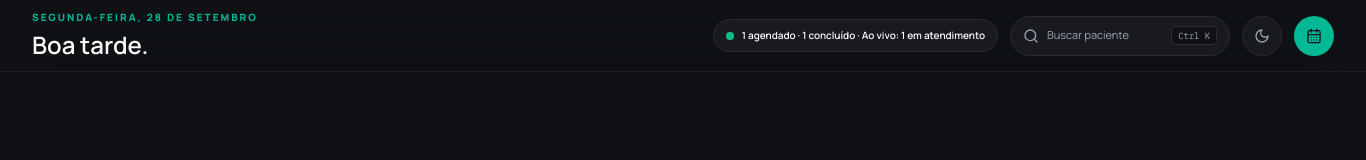
TopHeader › alterna o tema clínico por um controle acessível
Step 1. Click the button named "Alternar para tema escuro" → click(1262, 36), box [1242,16,1282,56]
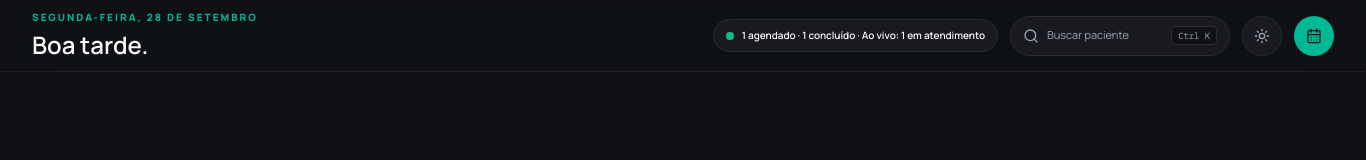
Expected: the button named "Alternar para tema claro" is shown, [1242,16,1282,56]
